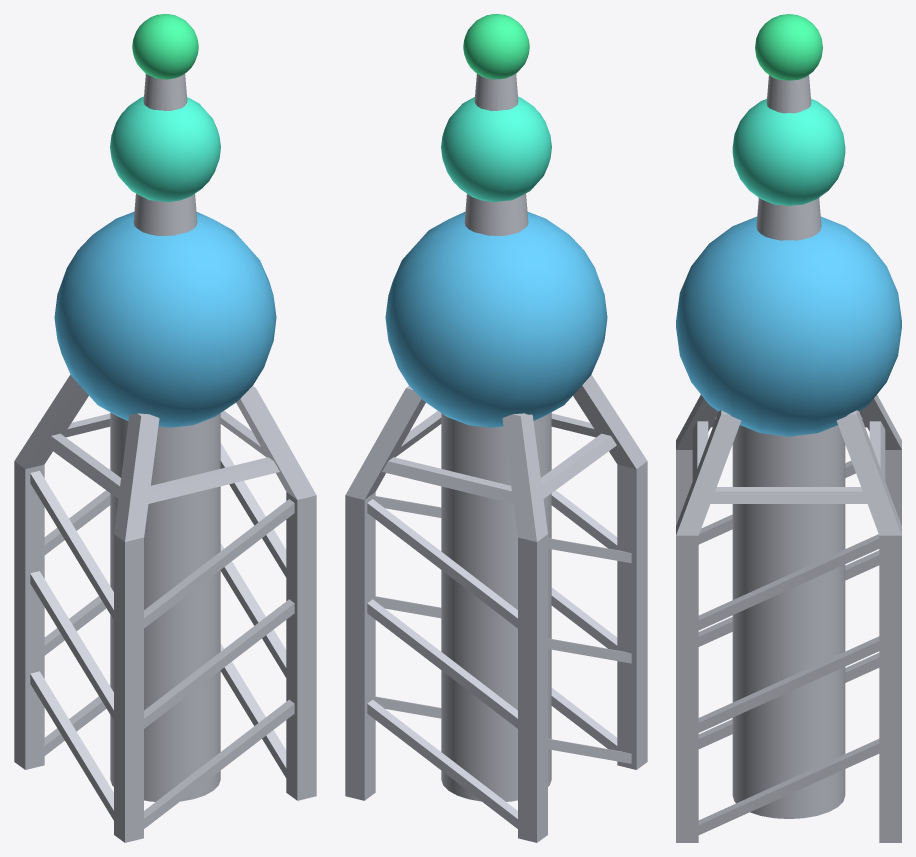
File: Support.fbx
3 renders of one model, left to right at view 1: azimuth 30°, elevation 25°; view 2: azimuth 150°, elevation 25°; view 3: azimuth 270°, elevation 25°, orthographic. The views are drawn at different scales.
Visible parts, largest first — view 1: mergedBlocks; view 2: mergedBlocks; view 3: mergedBlocks.
Part boxes in pixels (x1=…): mergedBlocks: x1=14, y1=14, x2=316, y2=842; mergedBlocks: x1=345, y1=14, x2=647, y2=842; mergedBlocks: x1=676, y1=14, x2=901, y2=842.
Bounding box in the file's own units: 10 × 38 × 10.
